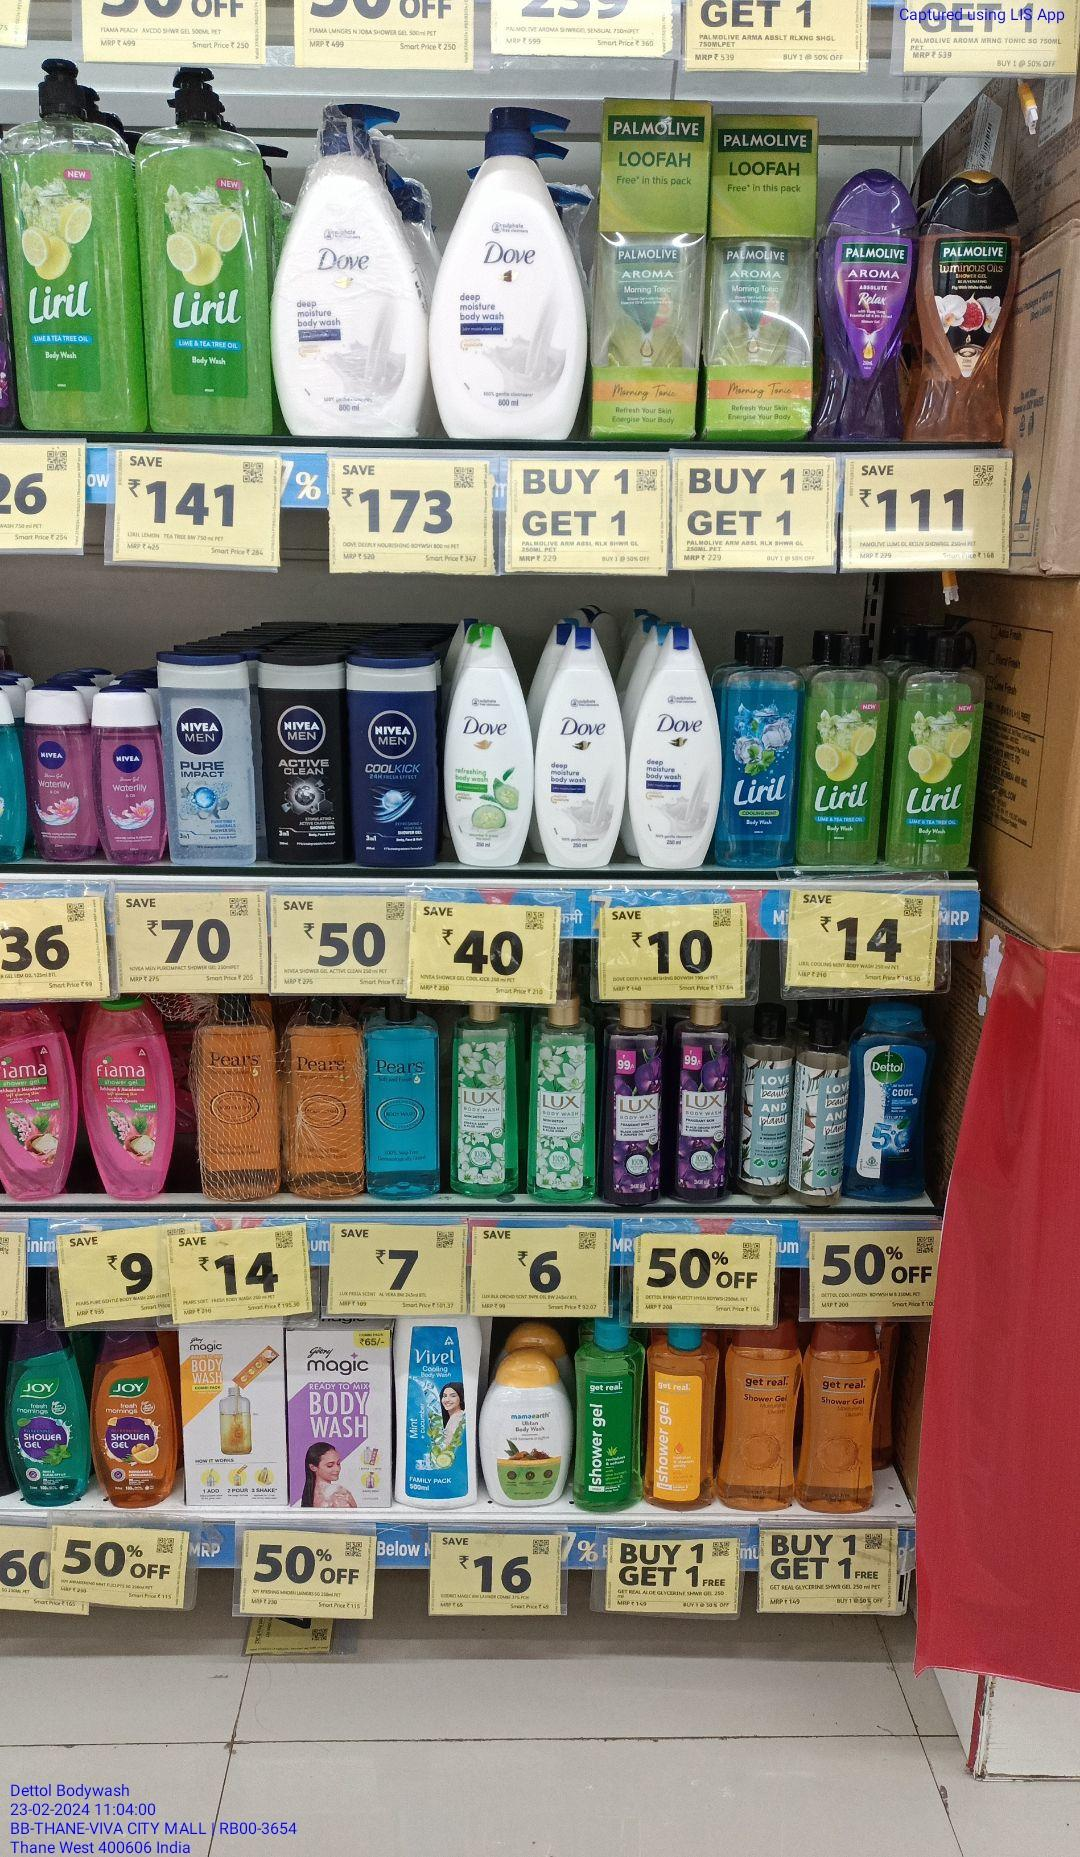Dettol_Bodywash_Cool: (851, 988, 936, 1202)
Dove_Deep_Moisture_Body_Wash_250ML: (540, 631, 624, 867), (633, 626, 714, 869)
Dove_Refreshing_Body_Wash_250ML: (440, 621, 530, 869)
Fiama_Shower_Gel_Patchouli_and_Macadamia_250ML: (93, 999, 170, 1203), (0, 1000, 67, 1205)
Get_Real_Shower_Gel_Moisturising_Glycerin_300ML: (796, 1316, 883, 1511), (723, 1321, 789, 1511)
Joy_Shower_Gel_Mandarin_and_Lemongrass_250ML: (93, 1331, 175, 1507)
Joy_Shower_Gel_Mint_and_Eucalyptus_250ML: (6, 1313, 86, 1507)
Liril_Cooling_Mint_Body_Wash_250ML: (717, 631, 802, 873)
Liril_Lime_and_Tea_Tree_Oil_Body_Wash_250ML: (888, 627, 976, 873), (804, 632, 887, 873)
Lux_Black_Orchid_Scent_and_Juniper_Oil_Body_Wash_245ML: (600, 1000, 669, 1207), (671, 1001, 732, 1204)
Lux_Body_Wash_Skin_Detox_Freesia_Scent_and_Alove_Vera_245ML: (526, 1006, 594, 1205), (450, 1008, 518, 1195)
Nivea_Shower_Gel_Waterlily_and_Oil_250ML: (94, 684, 166, 864), (24, 685, 89, 856)
Palmolive_Aroma_Relax_250ML: (819, 167, 910, 447)
Palmolive_Luminous_Oils_With_White_Orchid_Shower_Gel_250ML: (910, 167, 1014, 445)
